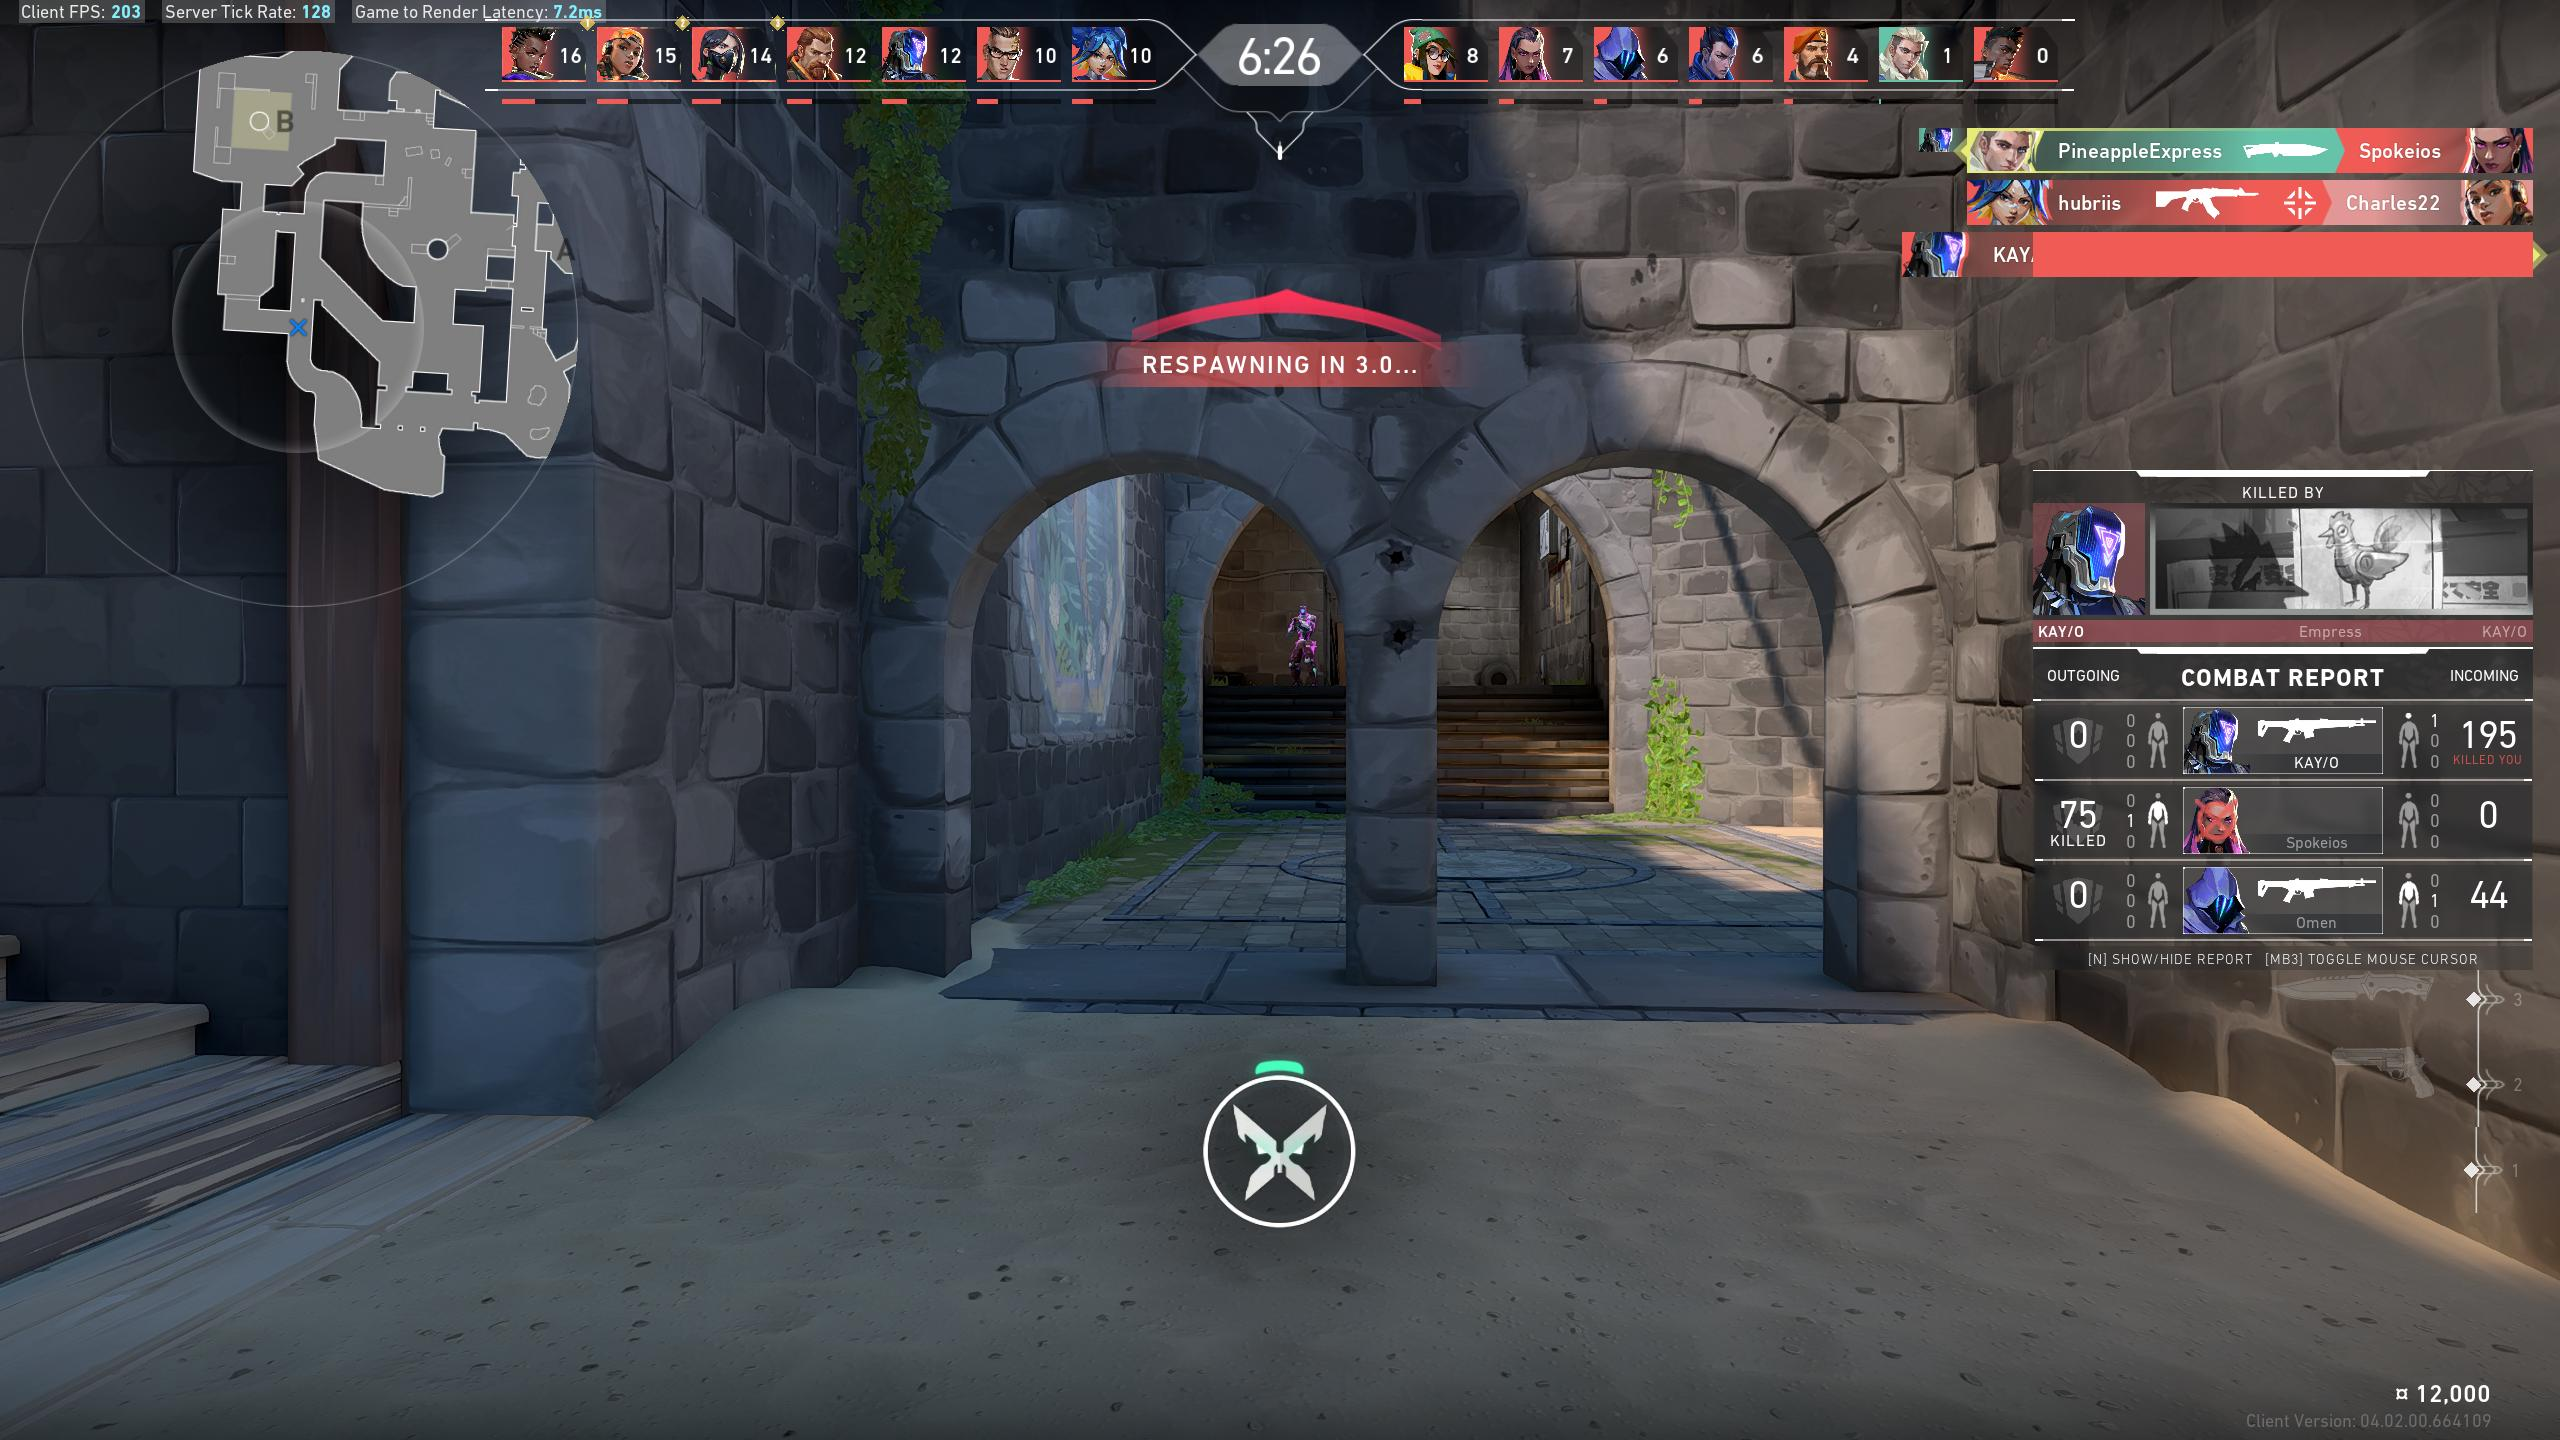enemyBody: (1296, 615, 1308, 640)
enemyHead: (1299, 607, 1306, 615)
